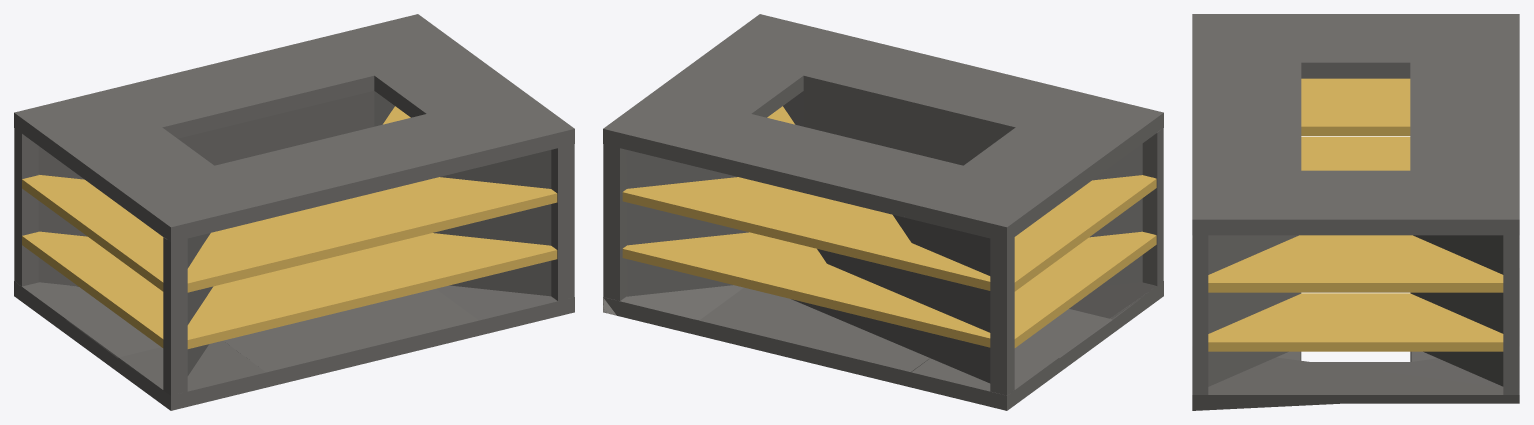
File: NewIlot-kun.fbx
The picture shows the model from 3 angles, left to right: view 1: azimuth 30°, elevation 25°; view 2: azimuth 150°, elevation 25°; view 3: azimuth 270°, elevation 25°; orthographic projection. The views are drawn at different scales.
Visible parts, largest first — view 1: Cube, Cube.003, Cube.002, Cube.001; view 2: Cube, Cube.002, Cube.003, Cube.001; view 3: Cube, Cube.002, Cube.003, Cube.001.
Boxes of the visible parts, <box> form: Cube: <box>14,14,574,410</box>; Cube.003: <box>22,231,557,348</box>; Cube.002: <box>22,106,557,292</box>; Cube.001: <box>14,128,574,395</box>; Cube: <box>603,14,1163,410</box>; Cube.002: <box>622,106,1156,291</box>; Cube.003: <box>622,231,1156,347</box>; Cube.001: <box>603,128,1163,395</box>; Cube: <box>1192,14,1519,410</box>; Cube.002: <box>1208,78,1503,292</box>; Cube.003: <box>1208,136,1503,351</box>; Cube.001: <box>1192,235,1519,394</box>.
Bounding box in the file's own units: 1567 × 679 × 1051.
